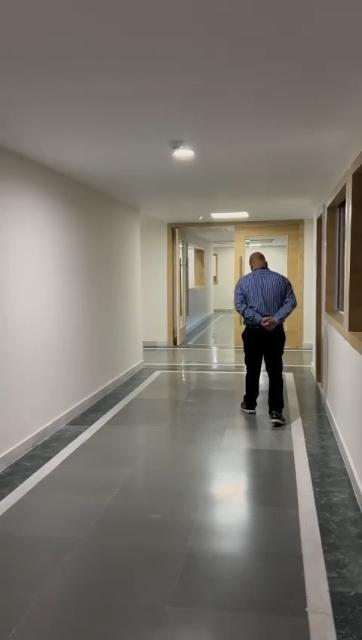floor: (0, 318, 362, 640)
moving-obj: (222, 244, 304, 432)
wall: (0, 142, 170, 455), (326, 328, 362, 491)
